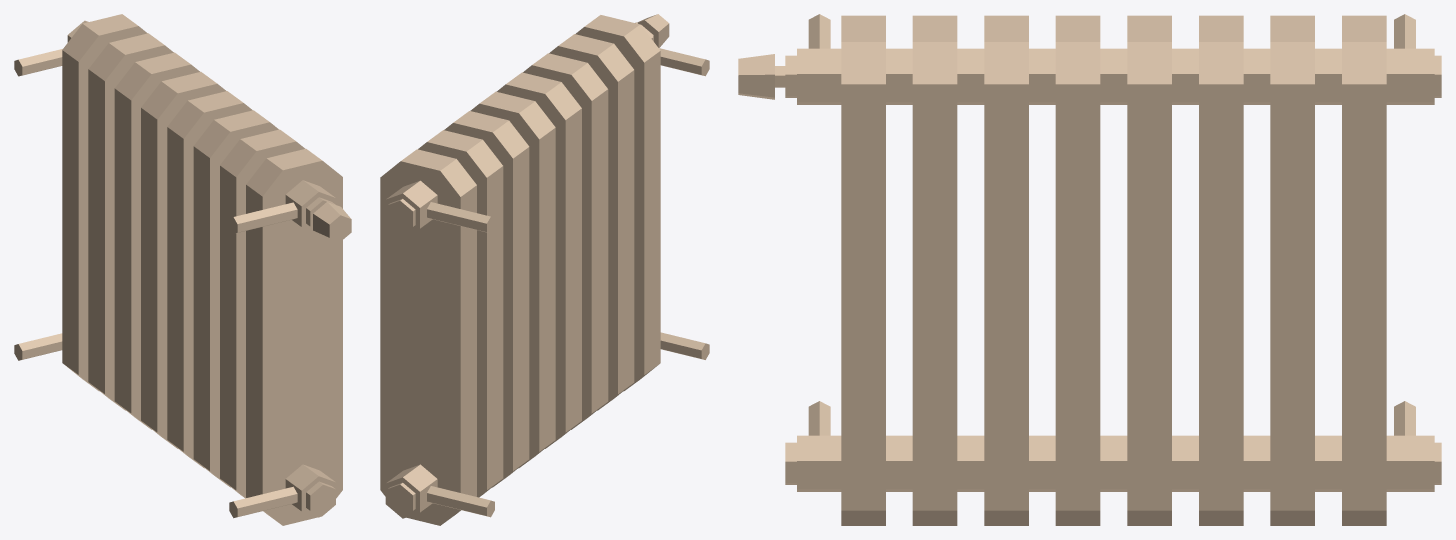
Rendered from radiator.fbx.
3 views of the same model, side by side, from view 1: azimuth 30°, elevation 25°; view 2: azimuth 150°, elevation 25°; view 3: azimuth 270°, elevation 25° (orthographic). The views are drawn at different scales.
Visible parts, largest first — view 1: Cube; view 2: Cube; view 3: Cube.
Boxes of the visible parts, x1,y1,x2,y2 form: Cube: (14, 14, 351, 525); Cube: (380, 14, 709, 525); Cube: (738, 14, 1441, 525).
Bounding box in the file's own units: 36.03 × 104 × 137.
